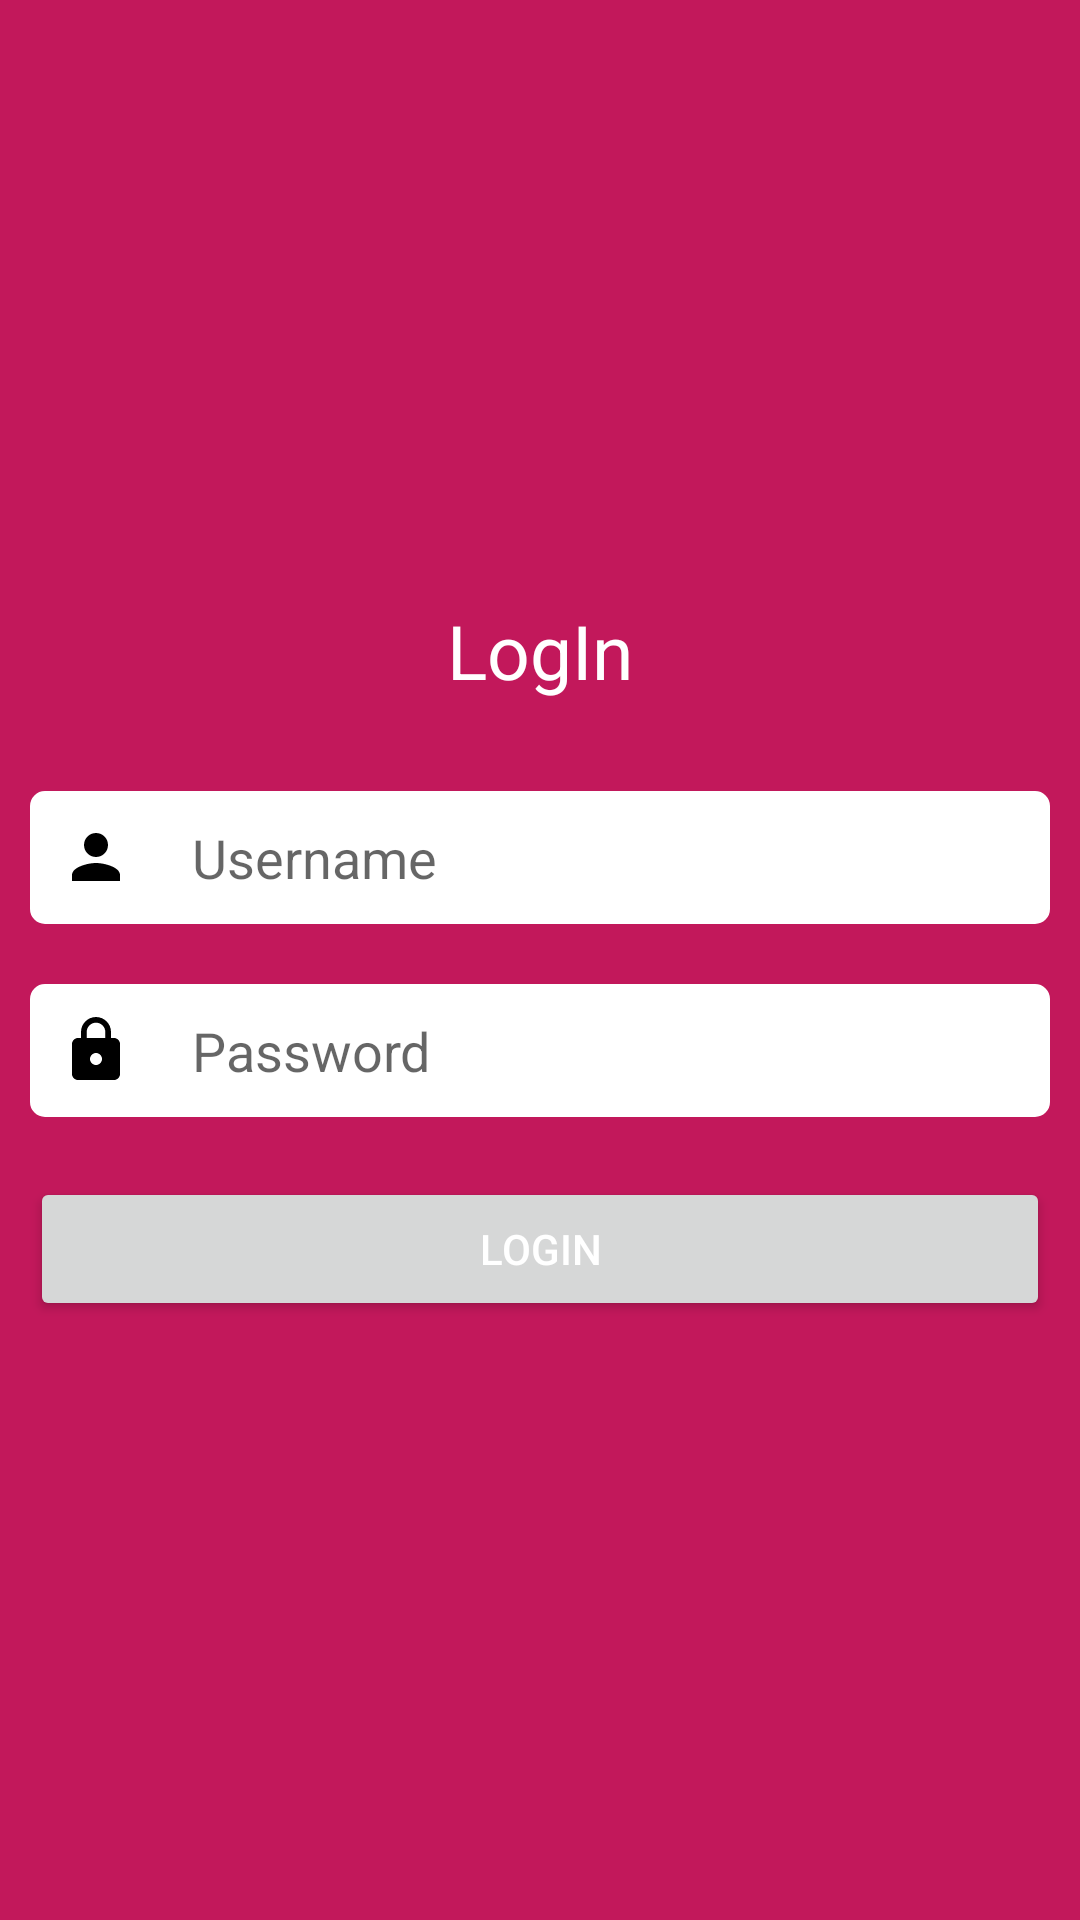

Named icons in this screenshot (1080px×1920px) and their centers, point (x, y):
person: point (96, 857)
